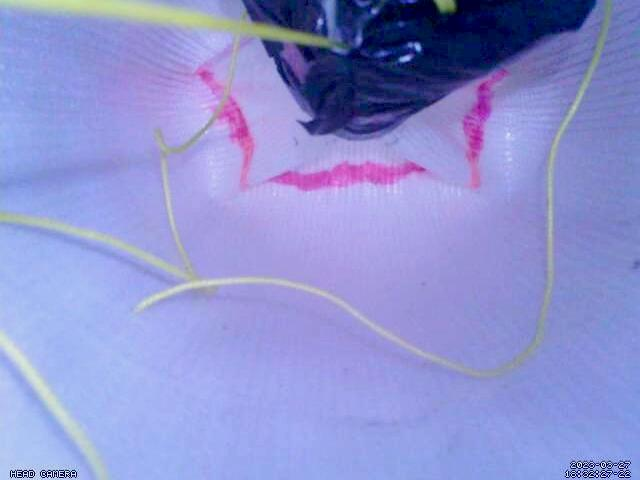head: (195, 64, 509, 191)
